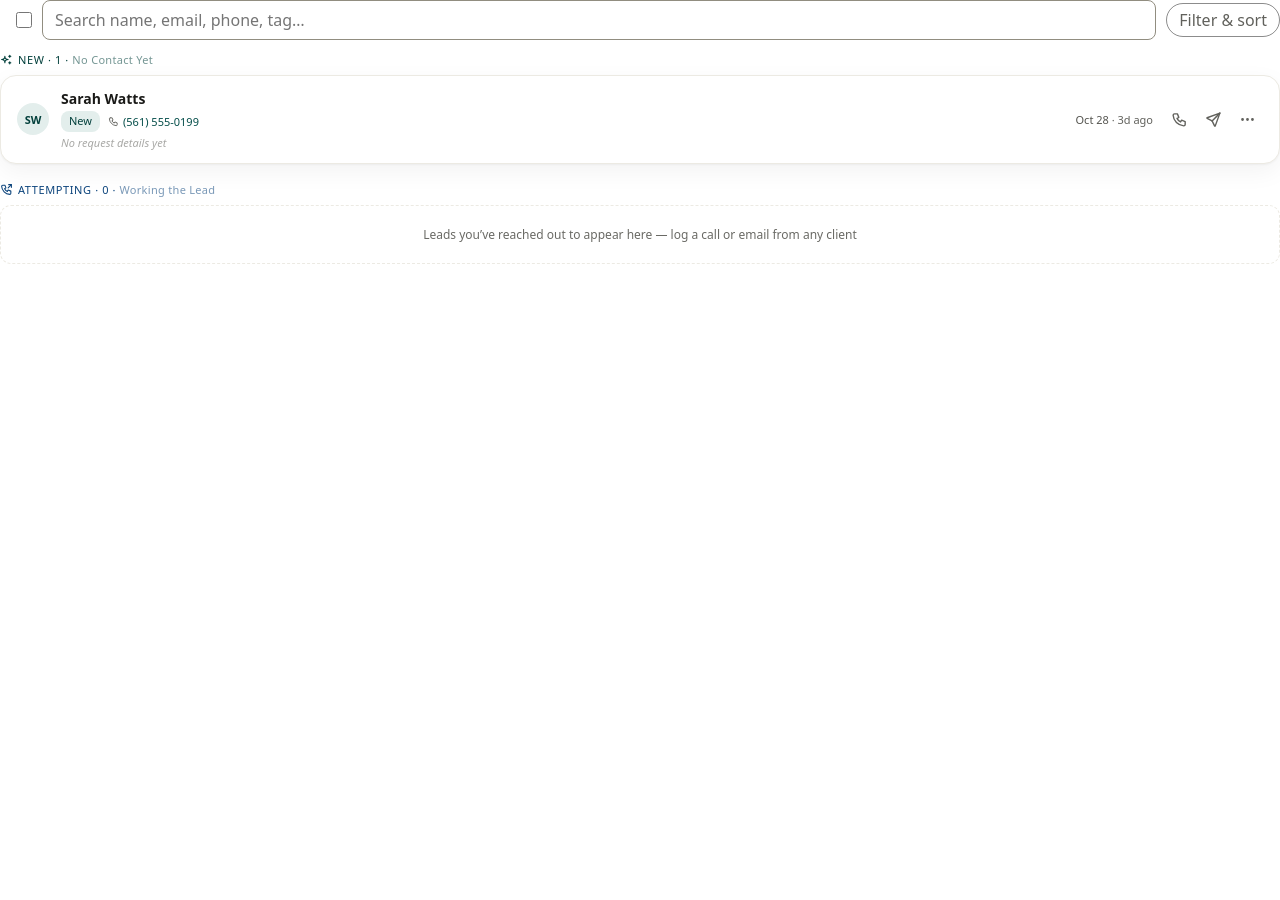
Test: 5 — both menus spend the same shared style › the card menu renders the same label treatment as the Inbox menu
What coordinates should you click on to do the following:
click the button named "More"
I would click on:
 (1247, 119)
Its box is left=1231, top=103, right=1263, bottom=135.
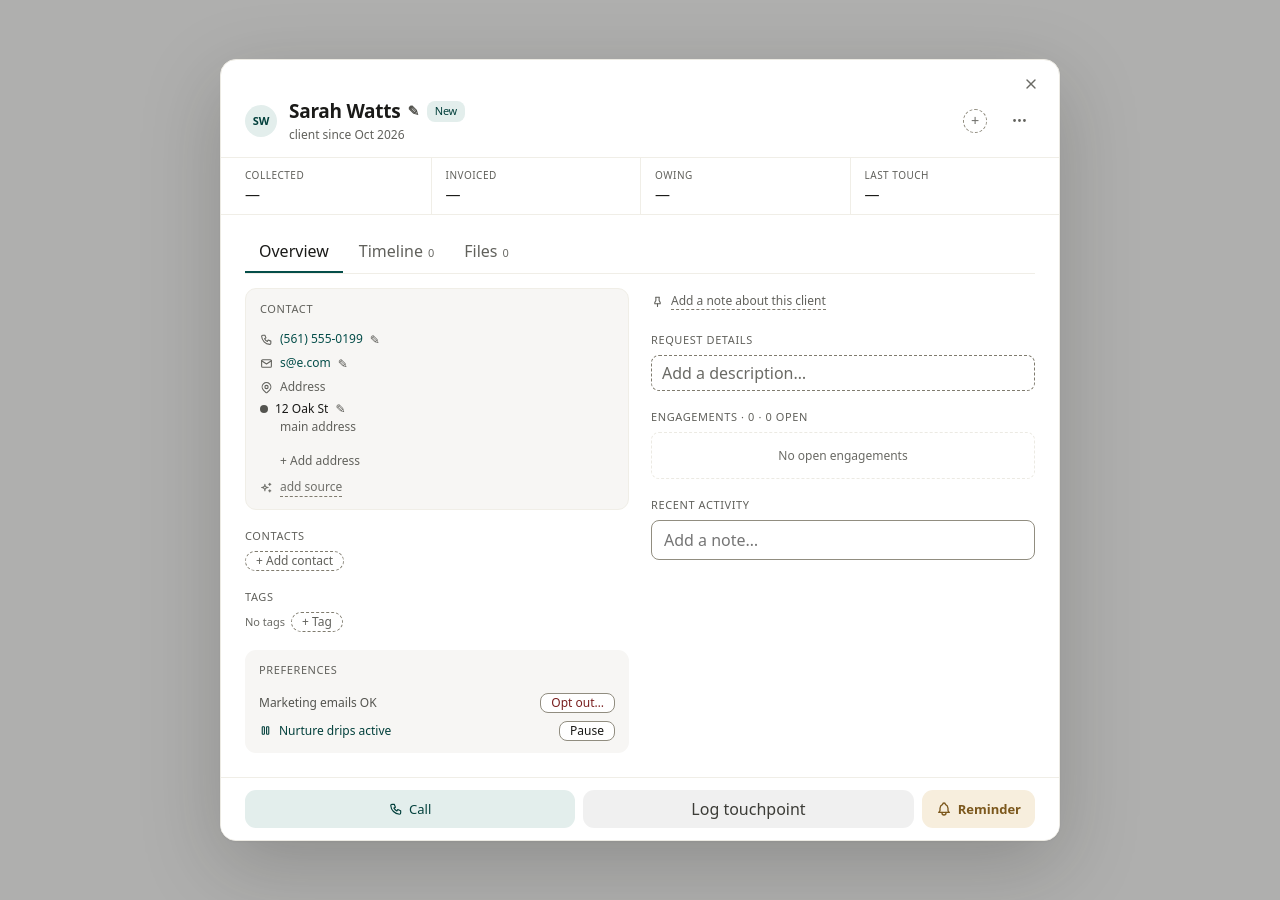
What coordinates should you click on to do the following:
click the button named "More"
I would click on:
 (1019, 121)
Its box is left=1003, top=105, right=1035, bottom=137.
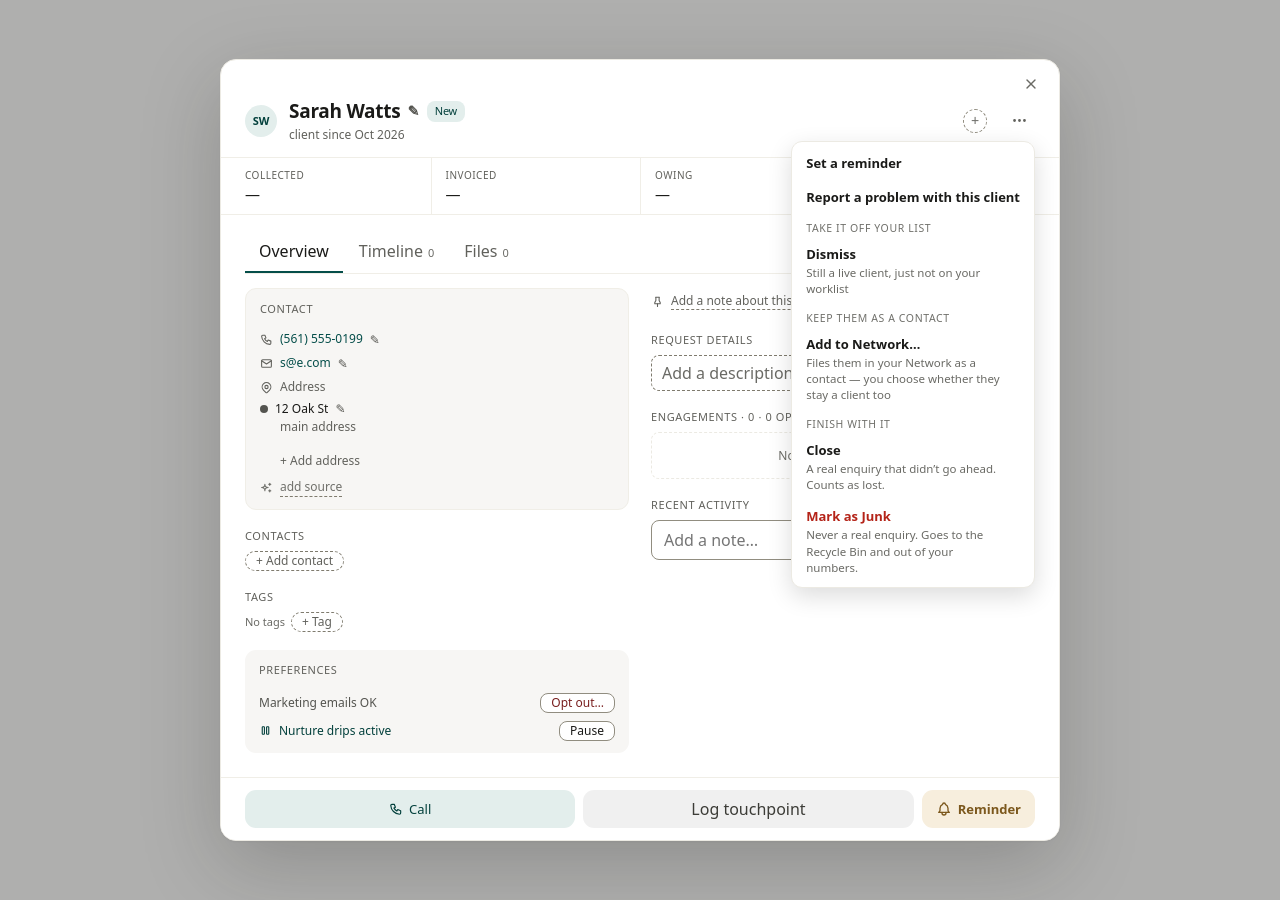
Expected: the text "Close" is shown, left=806, top=441, right=841, bottom=459
